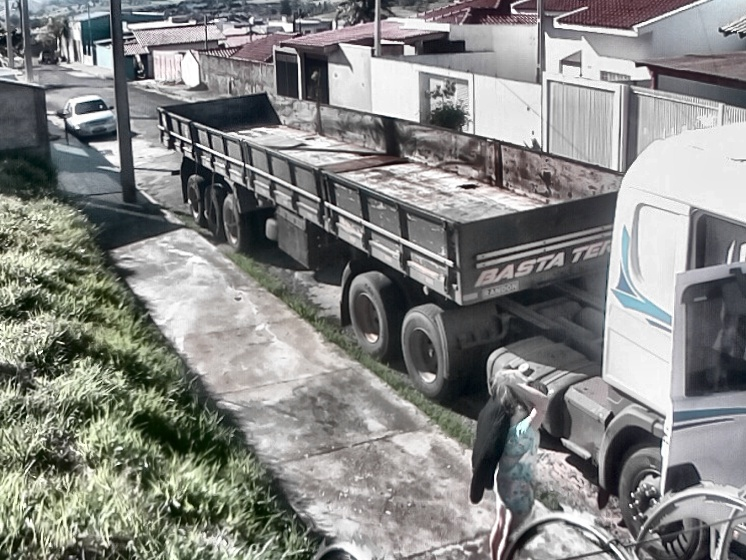person: (486, 362, 554, 560)
